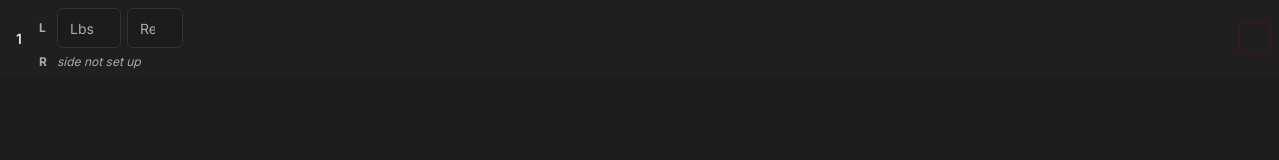
Test: unilateral set entry › does not crash when a side is missing
Click the number field with placeholder "Lbs" at [89, 28], box x1=57 y1=8 x2=121 y2=48
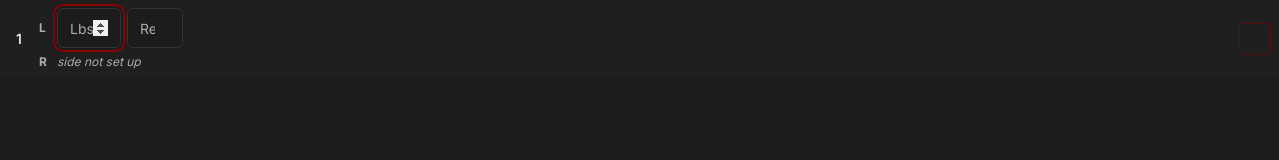
Type keys "30"
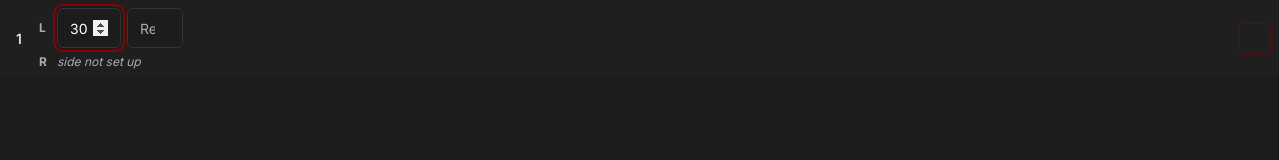
Expected: the number field with placeholder "Lbs" holds "30", x1=57 y1=8 x2=121 y2=48
